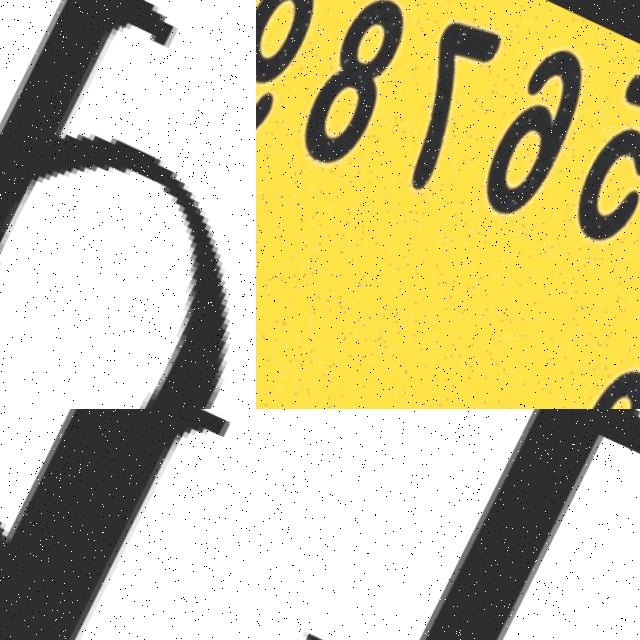0: (489, 298, 640, 409)
5: (523, 29, 640, 282)
6: (432, 2, 640, 251)
7: (337, 0, 537, 231)
8: (256, 0, 466, 191)
9: (256, 0, 379, 173)
B: (0, 409, 232, 640)
D: (0, 0, 256, 409)
T: (266, 409, 640, 640)
